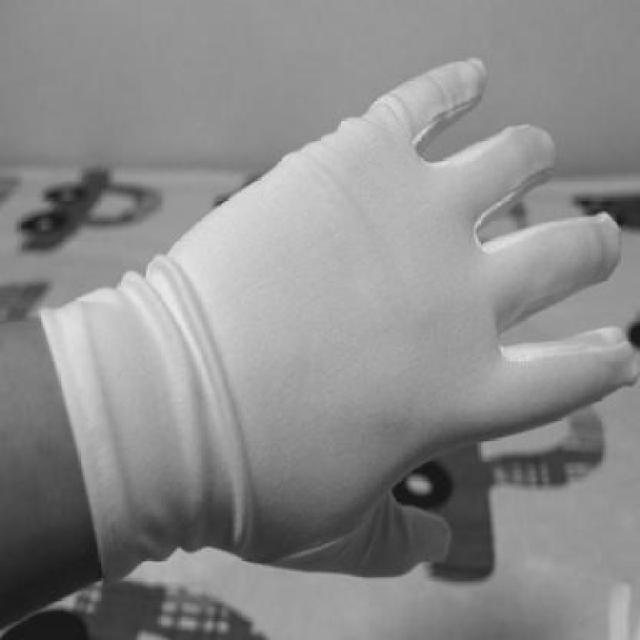hand_glove: (95, 56, 633, 582)
